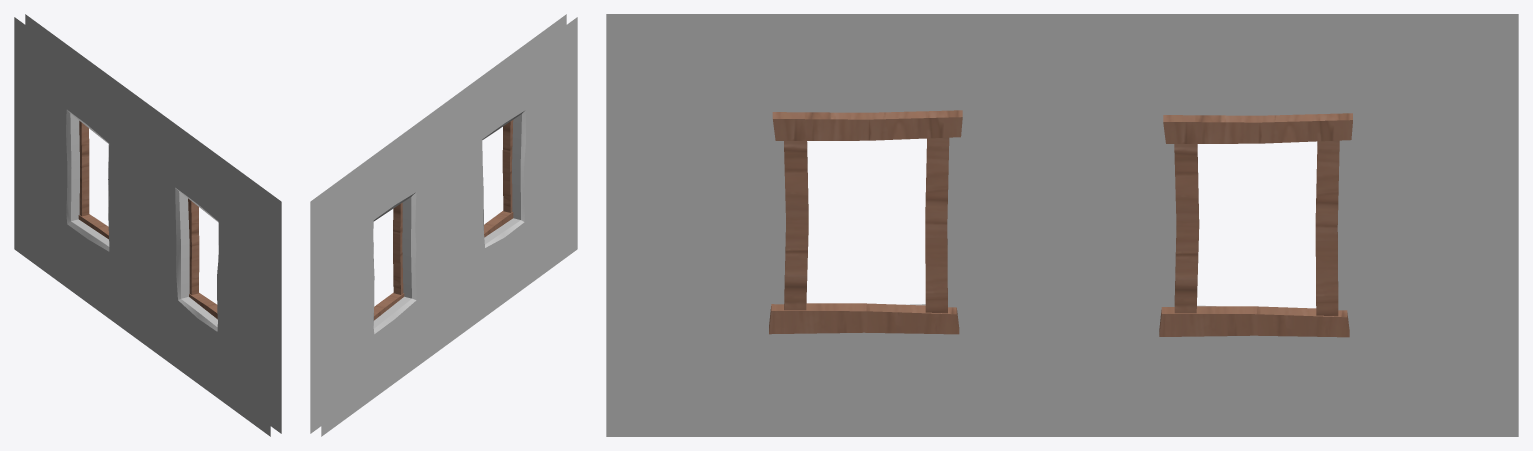
The model's file is SM_wall_02.fbx.
The picture shows the model from 3 angles, left to right: view 1: azimuth 30°, elevation 25°; view 2: azimuth 150°, elevation 25°; view 3: azimuth 270°, elevation 25°; orthographic projection. The views are drawn at different scales.
Parts seen in each view (by area): view 1: SM_wall_02_LOD0; view 2: SM_wall_02_LOD0; view 3: SM_wall_02_LOD0.
Boxes of the visible parts, x1,y1,x2,y2 form: SM_wall_02_LOD0: [14, 14, 281, 436]; SM_wall_02_LOD0: [310, 14, 577, 436]; SM_wall_02_LOD0: [606, 14, 1518, 436].
Size of the model in its own units: 34.23 by 800 by 400.
